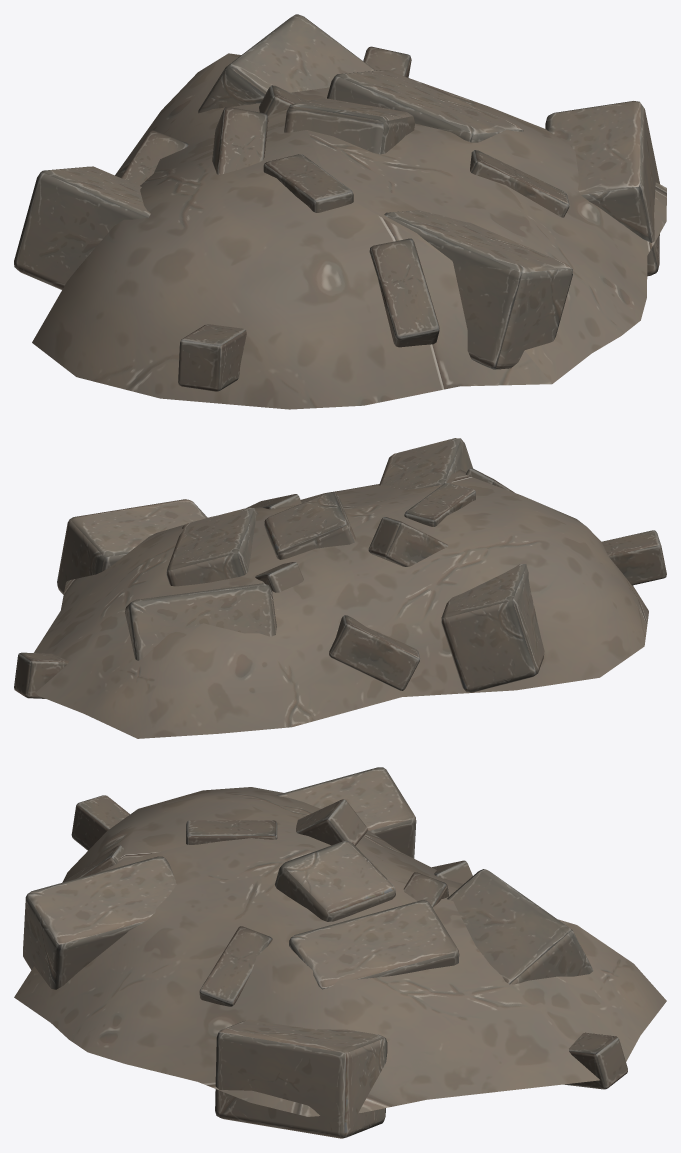
Rendered from Ruins_Rubble_a01.fbx.
The picture shows the model from 3 angles, top to bottom: view 1: azimuth 30°, elevation 25°; view 2: azimuth 150°, elevation 25°; view 3: azimuth 270°, elevation 25°; orthographic projection. The views are drawn at different scales.
Visible parts, largest first — view 1: Rubble_Brick4; view 2: Rubble_Brick4; view 3: Rubble_Brick4.
Part boxes in pixels (x1=…): Rubble_Brick4: x1=14, y1=14, x2=666, y2=409; Rubble_Brick4: x1=14, y1=438, x2=666, y2=738; Rubble_Brick4: x1=14, y1=767, x2=666, y2=1138.
Bounding box in the file's own units: 526 × 164 × 529.
